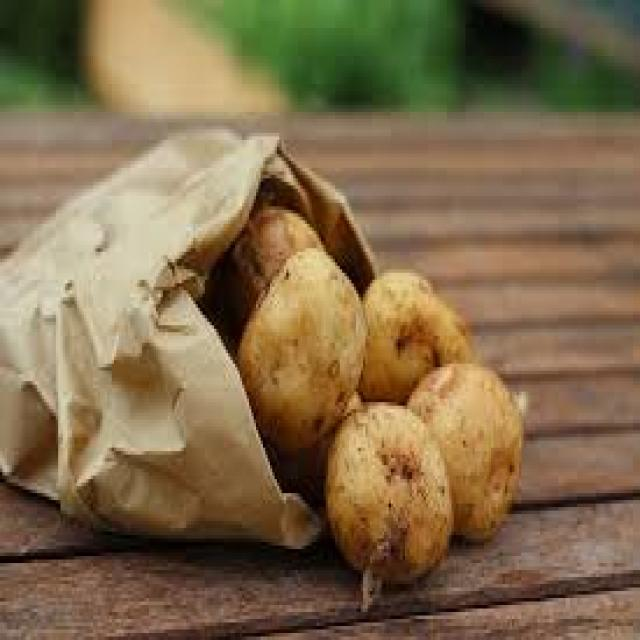Wet Waste: (335, 410, 459, 594)
